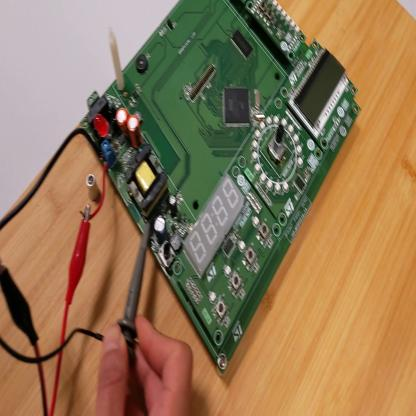hand: (96, 311, 195, 416)
low voltage board: (1, 1, 363, 375)
oscilloscope probe tip: (122, 219, 156, 369)
working area: (2, 1, 416, 414)
